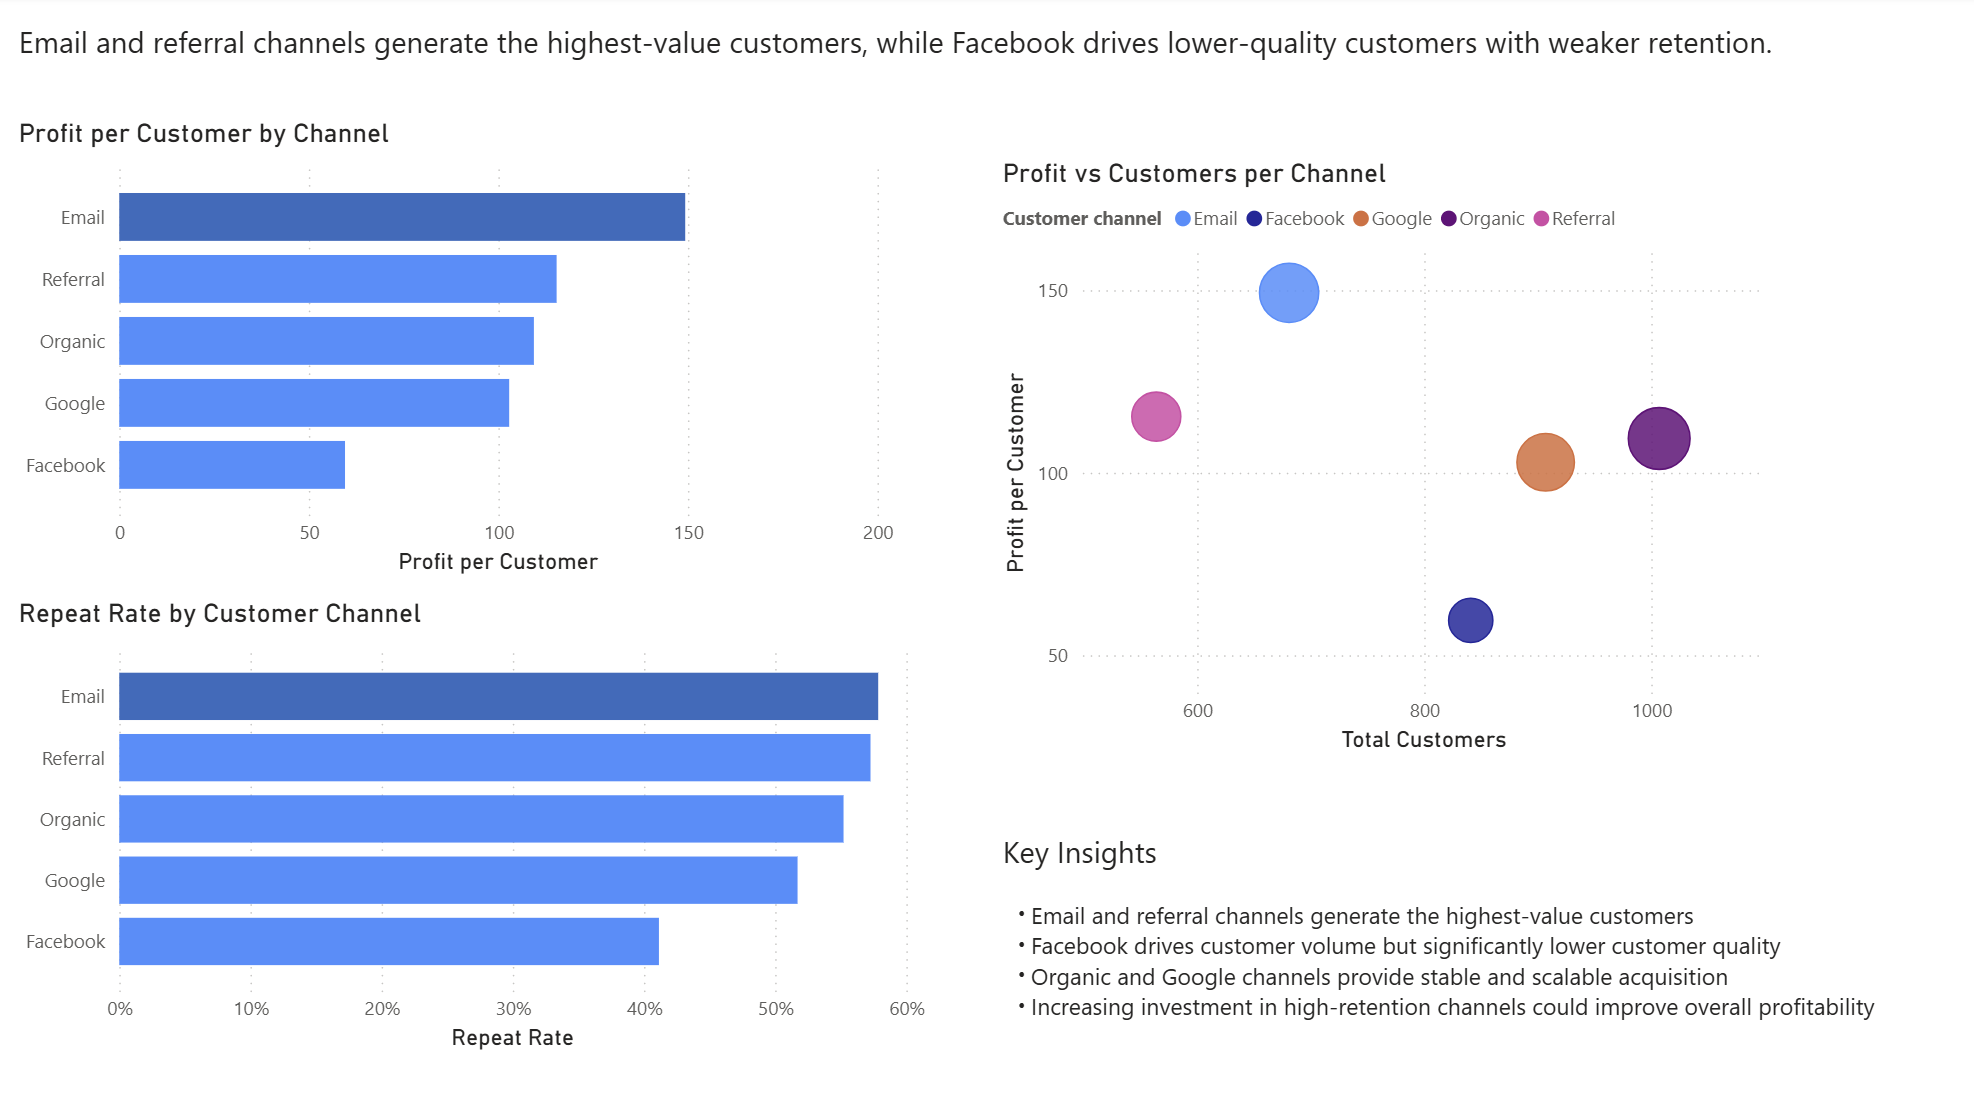

This screenshot's page, from the dashboard's own definition file:
{"tool":"powerbi","page":{"name":"Channel Performance","canvas":[1280,720],"ordinal":2},"visuals":[{"type":"textbox","box":[12.7,12.7,1175.5,91.8],"z":0},{"type":"barChart","title":"Profit per Customer by Channel","fields":{"Category":["orders.acquisition_channel"],"Y":["orders.Profit per Customer"]},"box":[12.7,79,567.3,295.8],"z":1000},{"type":"barChart","title":"Repeat Rate by Customer Channel","fields":{"Y":["orders.Repeat Rate"],"Category":["customers.acquisition_channel"]},"box":[12.7,385,587.7,293.2],"z":2000},{"type":"scatterChart","title":"Profit vs Customers per Channel","fields":{"Y":["orders.Profit per Customer"],"Size":["orders.Total Revenue"],"Series":["orders.acquisition_channel"],"X":["orders.Total Customers"]},"box":[640,104.5,508.7,383.7],"z":3000},{"type":"textbox","box":[640,529.1,600.5,149.2],"z":4000}]}

Visuals, with their boxes in screenshot pixels (x1, y1, x2, y2), scaled from the page's 1280x720 canvas onto the 1974x1116 screenshot:
textbox: 20/20/1832/162
"Profit per Customer by Channel" barChart: 20/122/894/581
"Repeat Rate by Customer Channel" barChart: 20/597/926/1051
"Profit vs Customers per Channel" scatterChart: 987/162/1772/757
textbox: 987/820/1913/1051
